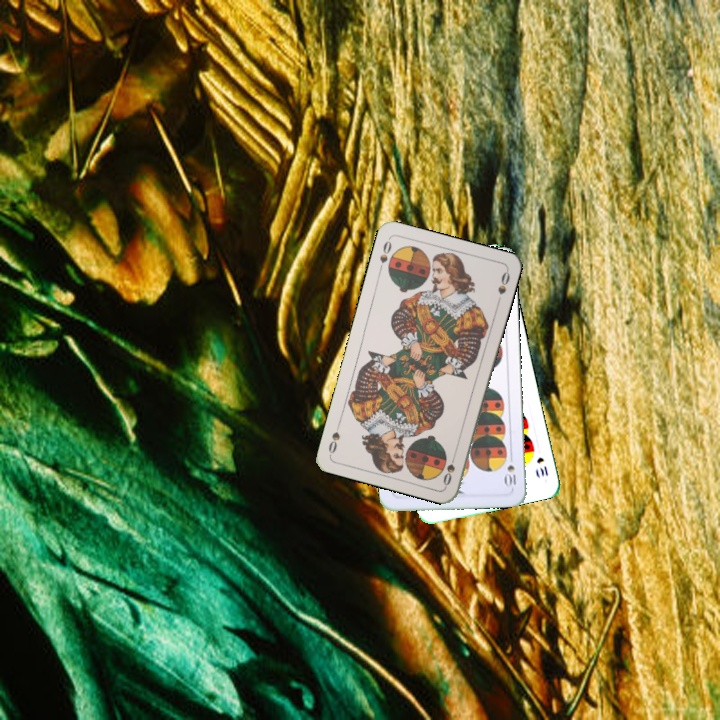S10: (502, 461, 518, 491), (533, 453, 551, 479)
SO: (439, 448, 458, 488), (375, 235, 394, 275)
